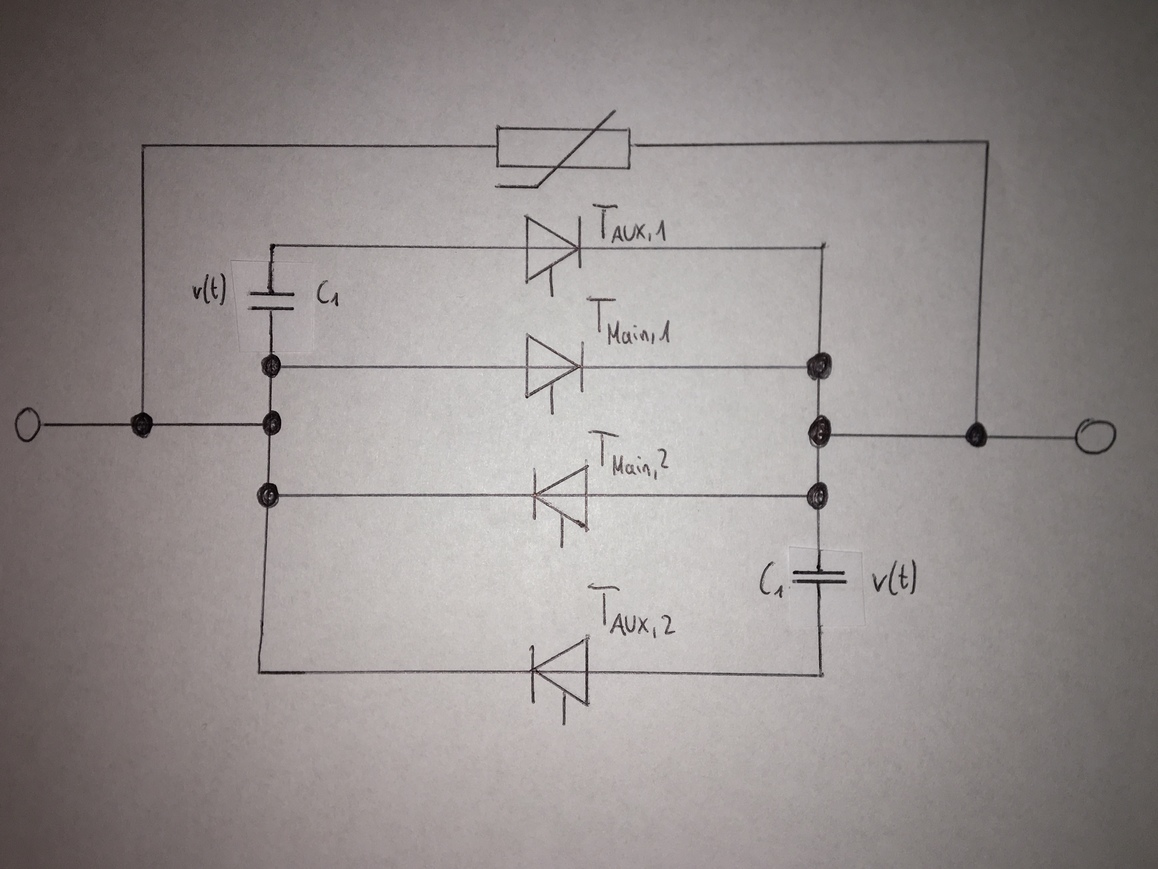capacitor.unpolarized: (244, 285, 299, 316), (790, 565, 852, 589)
junction: (806, 413, 833, 450), (804, 351, 834, 382), (128, 410, 156, 441), (805, 479, 830, 511), (254, 481, 281, 510), (963, 420, 989, 449), (260, 408, 284, 438), (259, 352, 283, 380), (266, 239, 281, 254), (814, 669, 828, 682), (817, 239, 830, 253), (981, 135, 994, 149), (137, 138, 150, 152), (254, 667, 264, 678)
terminal: (1073, 416, 1119, 457), (12, 405, 48, 445)
text: (585, 581, 678, 640), (586, 428, 672, 483), (585, 294, 673, 347), (589, 200, 669, 245), (869, 556, 922, 599), (189, 269, 230, 308), (756, 559, 787, 601), (313, 276, 341, 309)
thyristor: (526, 631, 594, 713), (529, 457, 594, 538), (522, 211, 585, 287), (523, 329, 586, 402)
varistor: (492, 107, 637, 193)
